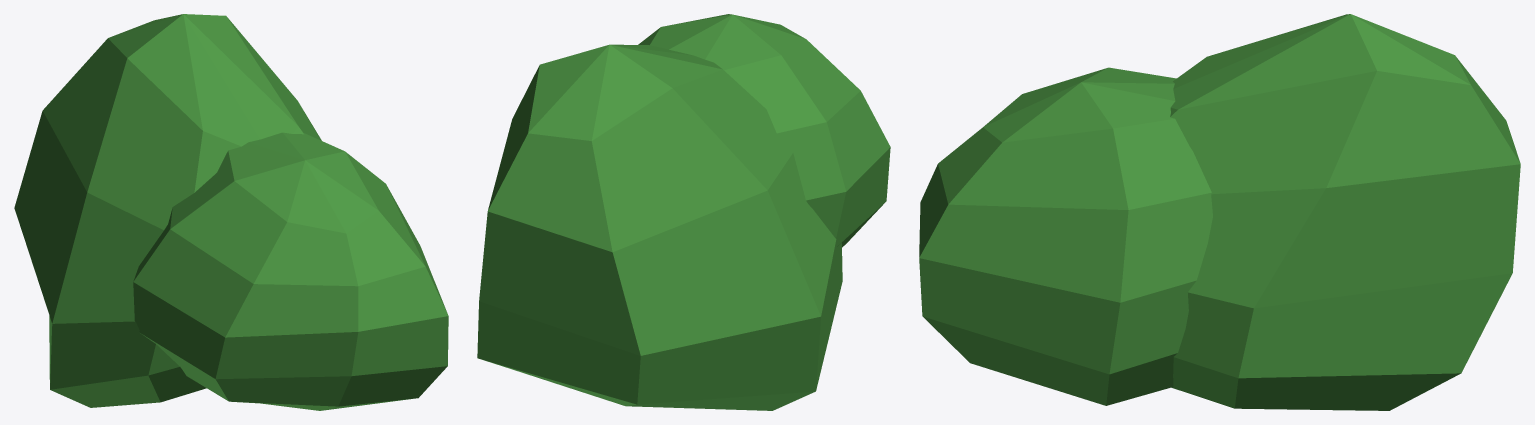
The model's file is bush.fbx.
3 views of the same model, side by side, from view 1: azimuth 30°, elevation 25°; view 2: azimuth 150°, elevation 25°; view 3: azimuth 270°, elevation 25° (orthographic). The views are drawn at different scales.
Parts seen in each view (by area): view 1: pSphere6; view 2: pSphere6; view 3: pSphere6.
Part boxes in pixels (x1=…): pSphere6: x1=14, y1=14, x2=448, y2=410; pSphere6: x1=477, y1=14, x2=890, y2=410; pSphere6: x1=919, y1=14, x2=1520, y2=410.
Bounding box in the file's own units: 4.87 × 5.17 × 7.32.
